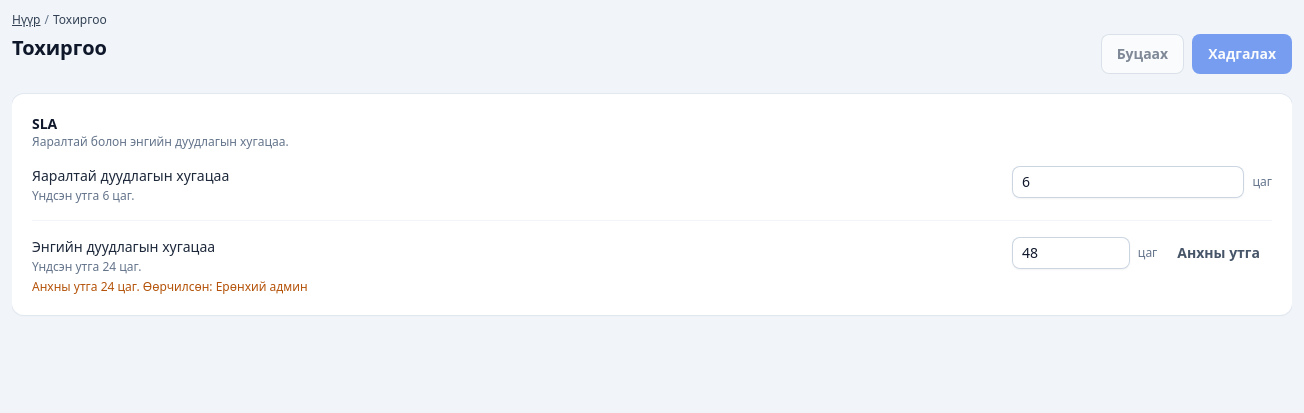
it: SettingsPage › shows a backend cross-field rejection against the offending field
Replace the text in the number field labelled "Яаралтай дуудлагын хугацаа" with "4" at (1128, 182), box [1012,166,1244,198]
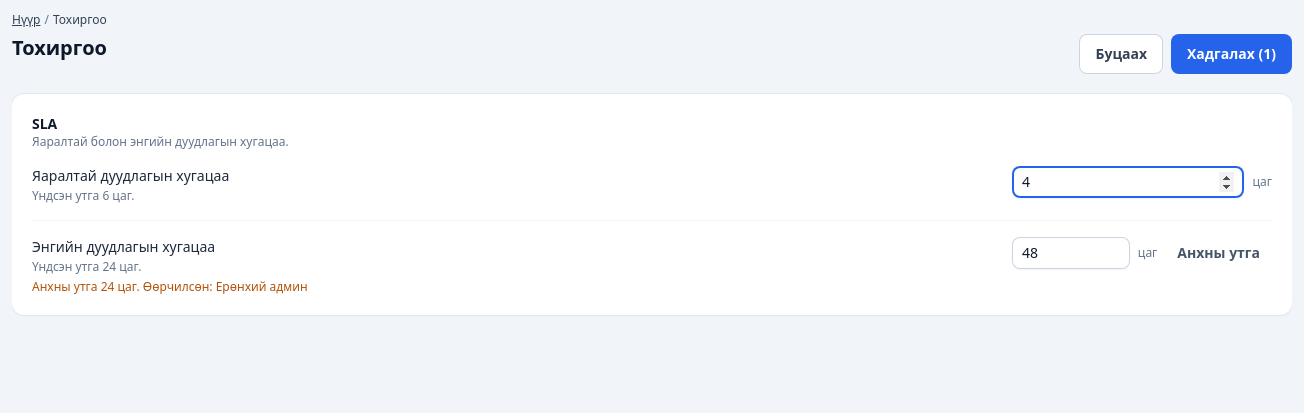
Click the button "Хадгалах (1)".
click(1232, 54)  # box [1171,34,1292,74]
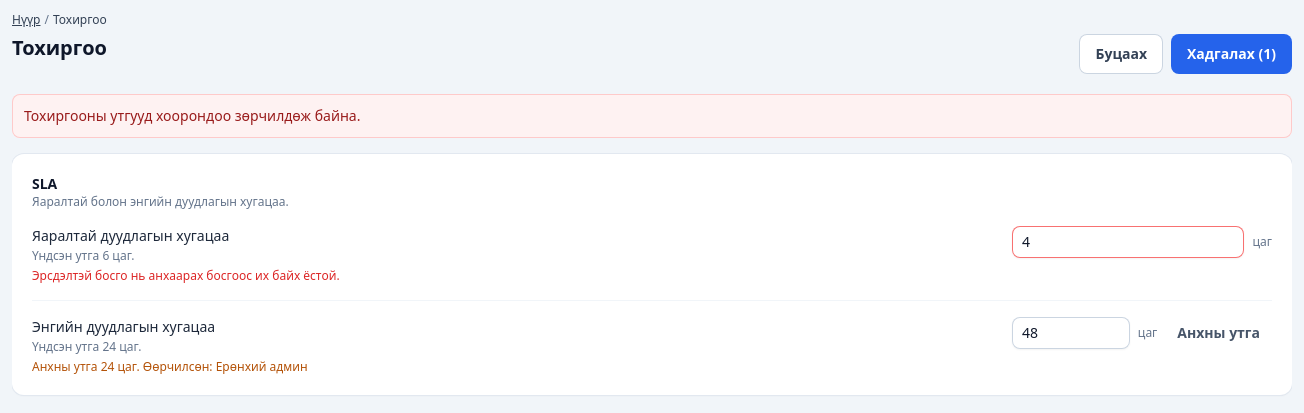
Check: the text "Тохиргооны утгууд хоорондоо зөрчилдөж байна." is shown, box [24,106,360,125]
Check: the text "Эрсдэлтэй босго нь анхаарах босгоос их байх ёстой." is shown, box [32,267,340,284]
